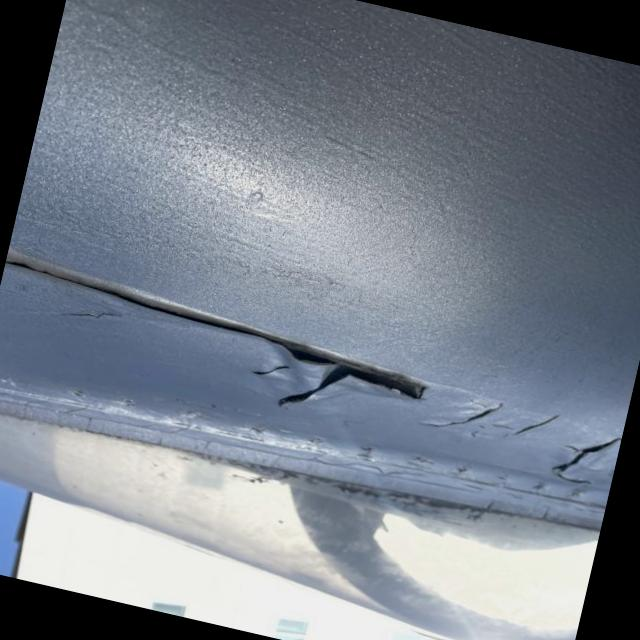crack: (433, 386, 562, 460), (58, 298, 138, 332), (257, 358, 293, 382)
